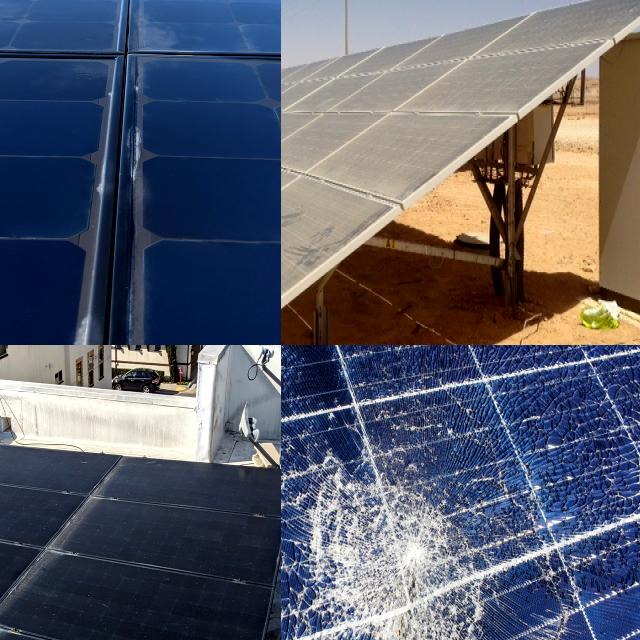crack: (126, 241, 281, 345), (0, 135, 121, 258), (135, 157, 281, 249), (0, 233, 116, 345), (124, 88, 281, 167), (0, 94, 149, 161), (0, 146, 58, 263), (0, 90, 78, 166), (125, 19, 281, 57), (16, 16, 124, 65)
dust: (60, 579, 237, 637), (358, 81, 432, 174), (106, 517, 258, 560), (281, 174, 316, 289), (0, 540, 64, 592), (281, 84, 319, 157), (0, 609, 78, 640), (528, 12, 618, 38), (281, 110, 303, 204), (0, 487, 56, 523), (462, 62, 524, 92)
hotspot: (300, 434, 489, 640)
